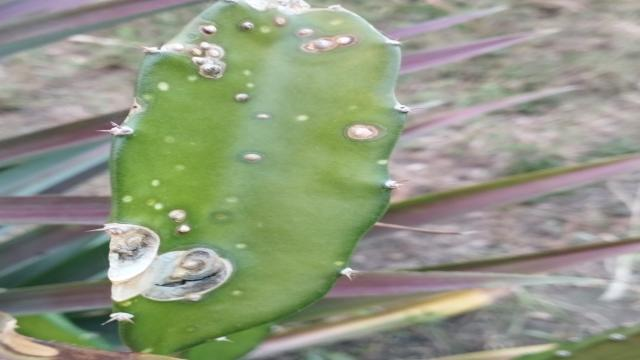stemcanker: (185, 38, 229, 82), (297, 35, 355, 57), (340, 120, 383, 146), (163, 205, 196, 234), (241, 150, 265, 166), (197, 23, 222, 38), (235, 90, 254, 104)
